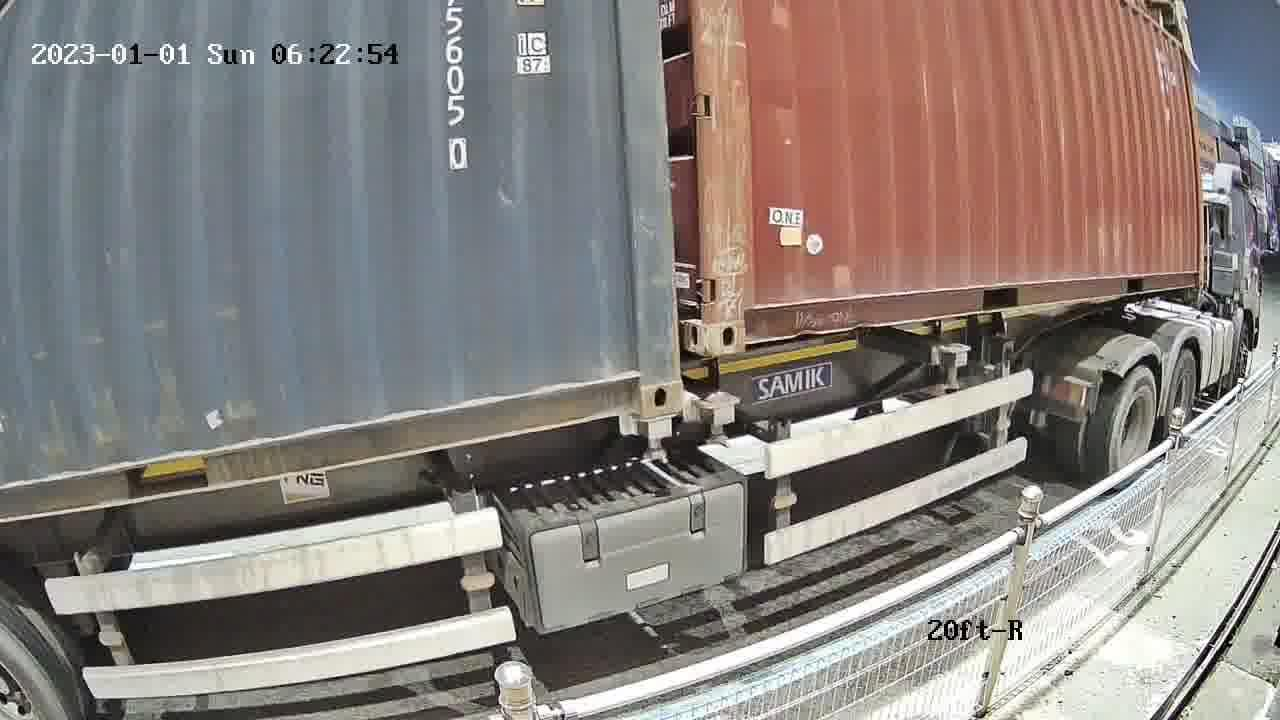Cone: (697, 393, 743, 449), (631, 414, 679, 465)
Hole_L: (712, 282, 772, 355)
Hole_R: (592, 346, 683, 418)
Tire: (1110, 371, 1157, 488), (1166, 351, 1196, 439)
